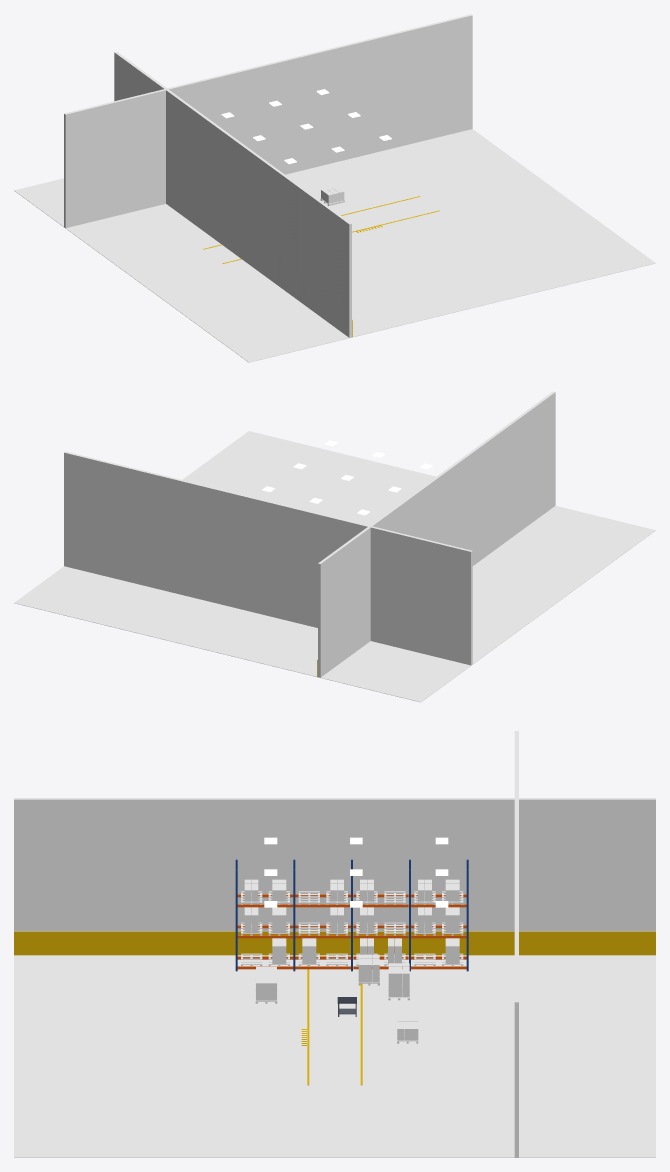
File: galpao.glb
3 renders of one model, top to bottom at view 1: azimuth 30°, elevation 25°; view 2: azimuth 150°, elevation 25°; view 3: azimuth 270°, elevation 25°, orthographic. The views are drawn at different scales.
Parts seen in each view (by area): view 1: Piso, ParedeLado, ParedeFundo; view 2: Piso, ParedeLado, ParedeFundo; view 3: Piso, ParedeFundo, PortaPallets, Rodape, PalletsPiso, ParedeLado.
Boxes of the visible parts, x1,y1,x2,y2 form: Piso: (14,129,655,362); ParedeLado: (64,14,472,227); ParedeFundo: (114,52,351,337); Piso: (14,431,655,702); ParedeLado: (64,451,472,665); ParedeFundo: (318,391,555,677); Piso: (14,955,655,1157); ParedeFundo: (14,798,655,931); PortaPallets: (235,859,468,971); Rodape: (14,931,655,955); PalletsPiso: (255,954,418,1043); ParedeLado: (514,731,518,1157).
Size of the model in its own units: 30 by 8.02 by 30.
